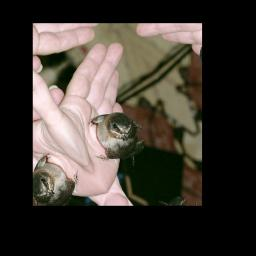Swallow: (74, 95, 159, 184)
